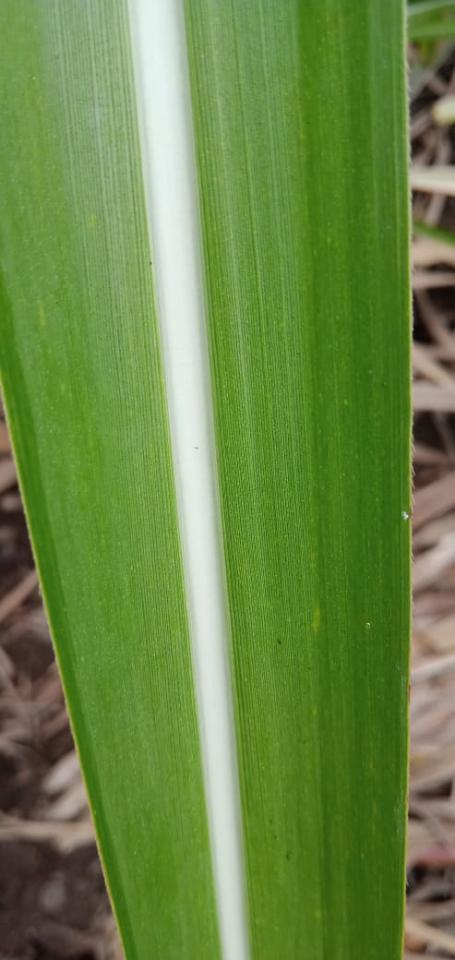Healthy: (0, 0, 411, 959)
